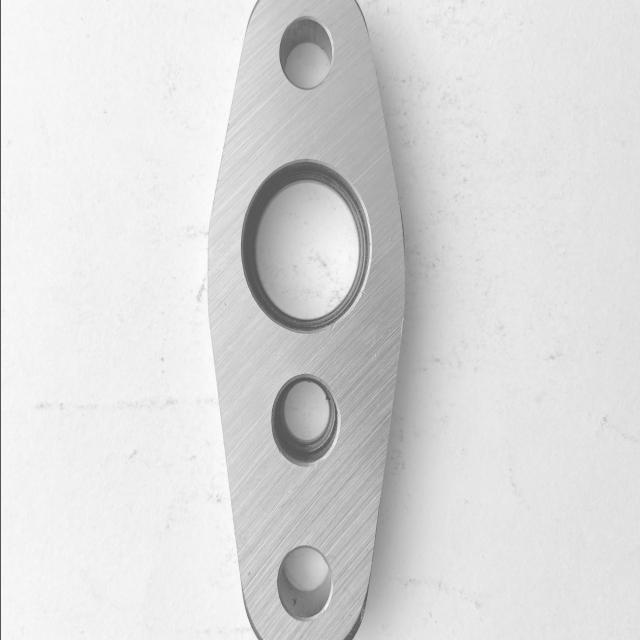chap: (244, 568, 253, 580), (328, 322, 336, 334), (359, 288, 367, 298), (387, 236, 393, 244), (371, 352, 377, 359)
